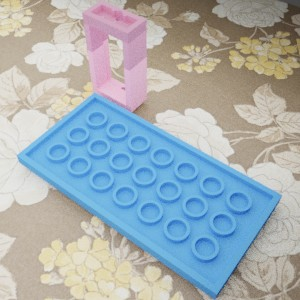lego: (16, 92, 282, 300), (81, 0, 147, 112)
